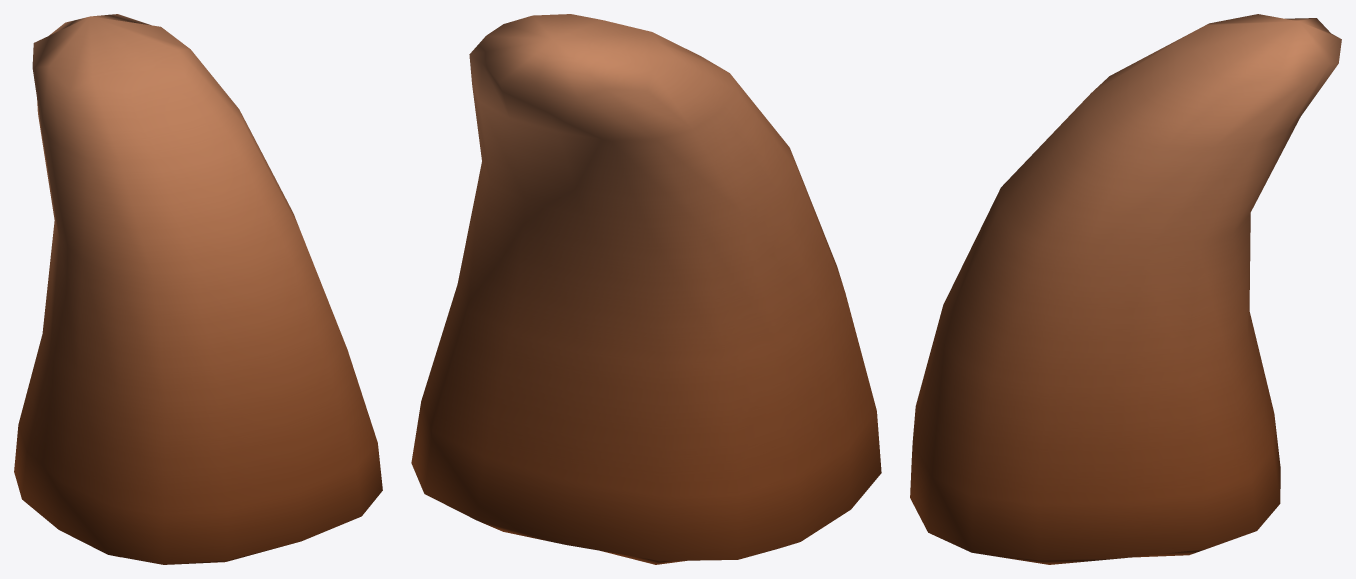
The model's file is Teeth.fbx.
3 renders of one model, left to right at view 1: azimuth 30°, elevation 25°; view 2: azimuth 150°, elevation 25°; view 3: azimuth 270°, elevation 25°, orthographic. The views are drawn at different scales.
Parts seen in each view (by area): view 1: Teeth.002; view 2: Teeth.002; view 3: Teeth.002.
Part boxes in pixels (box(x1,y1,x2,y2)): Teeth.002: box(14, 14, 382, 564); Teeth.002: box(411, 14, 881, 564); Teeth.002: box(910, 14, 1341, 564).
Size of the model in its own units: 225 by 308 by 253.
